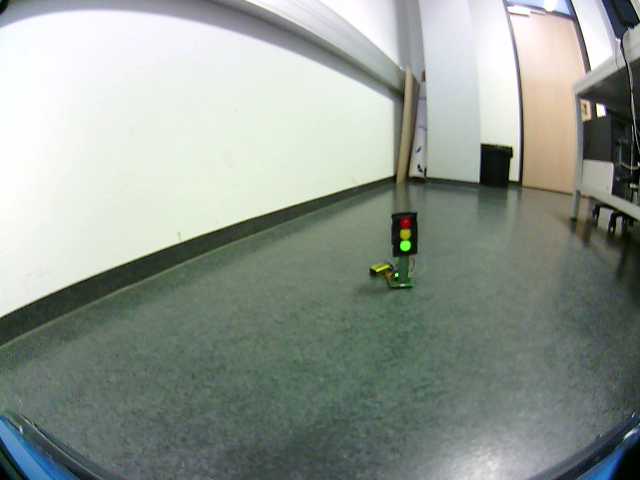green trafficlight: (394, 214, 415, 257)
